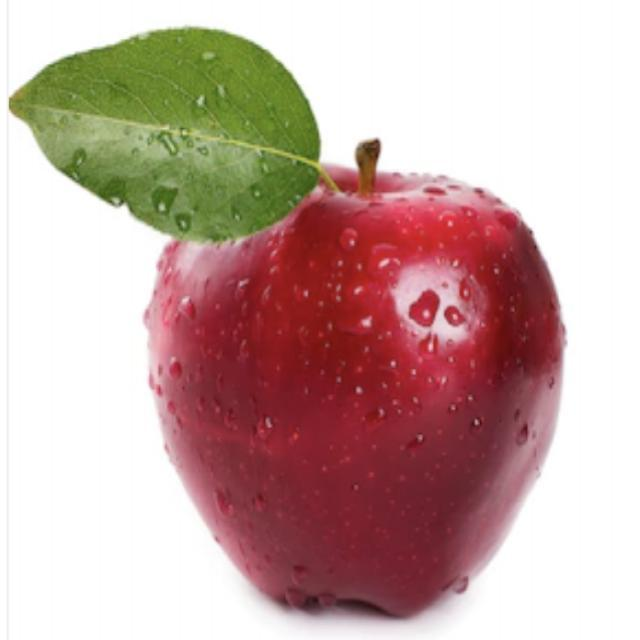Fresh Apple: (123, 123, 558, 640)
